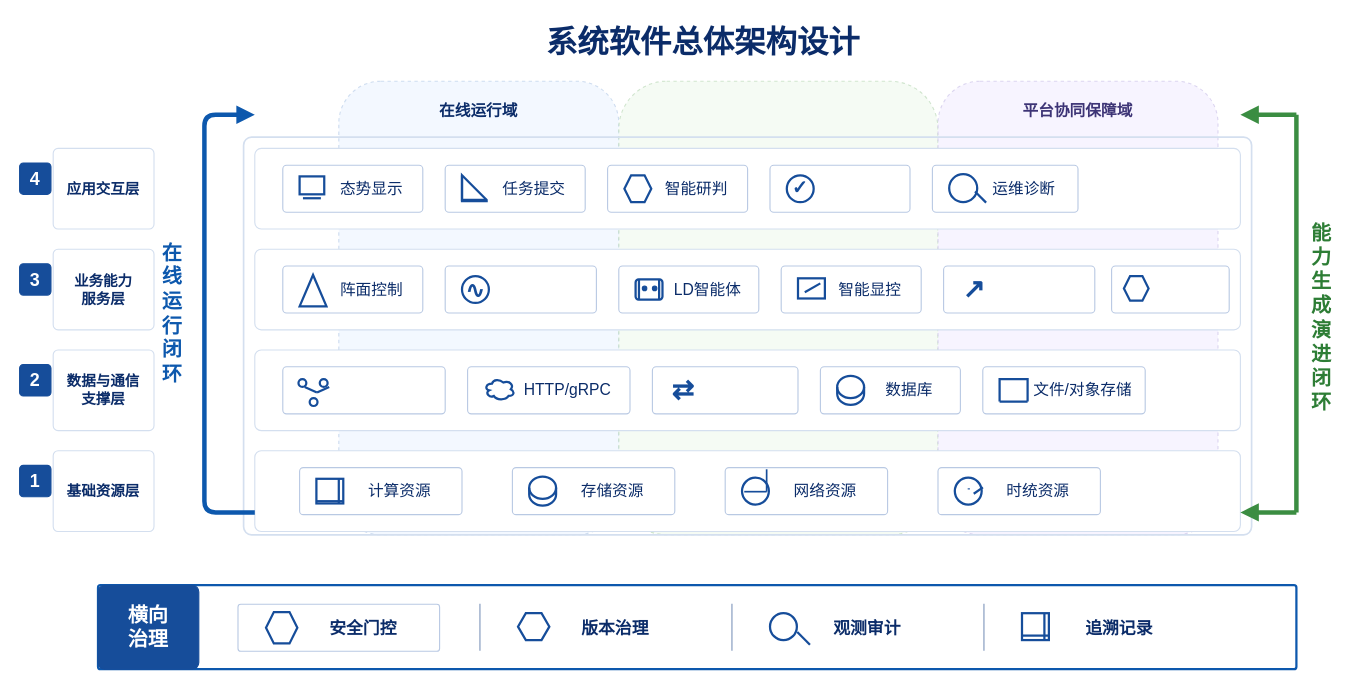
The diagram is 1361 pixels wide and 689 high, and some of its shapes have lost their labels. Each missing label, with the box of its shape:
DDS/消息总线: (282, 366, 445, 414)
WebSocket: (651, 366, 798, 414)
信息处理感知: (444, 265, 596, 313)
处置确认: (769, 164, 910, 212)
平台协同保障: (1110, 265, 1229, 313)
能力生成演进: (942, 265, 1095, 313)
能力生成演进域: (618, 80, 938, 535)
